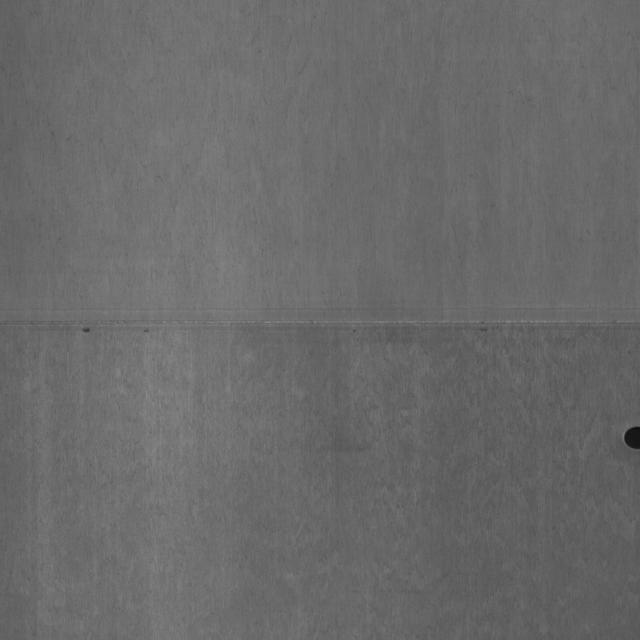crease: (2, 295, 640, 350)
crescent_gap: (614, 415, 640, 455)
inclusion: (12, 356, 629, 639)
